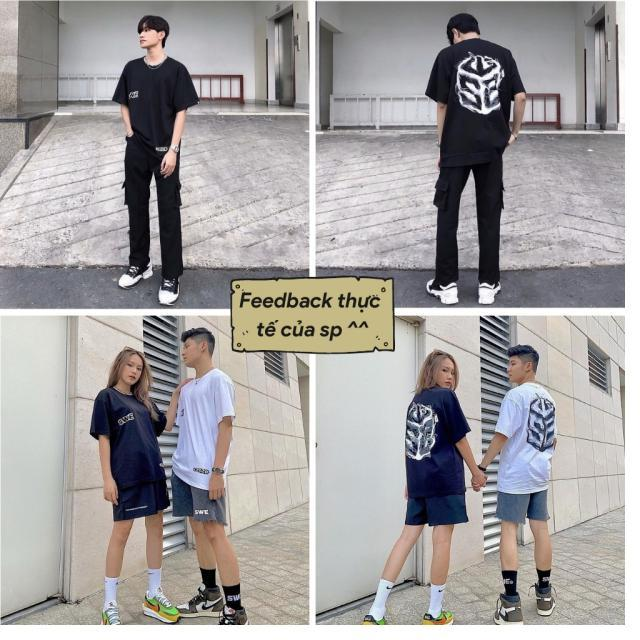Shirt: (422, 39, 530, 164), (86, 384, 174, 524), (108, 54, 203, 152), (170, 364, 241, 490), (400, 382, 476, 498), (488, 383, 560, 498)
